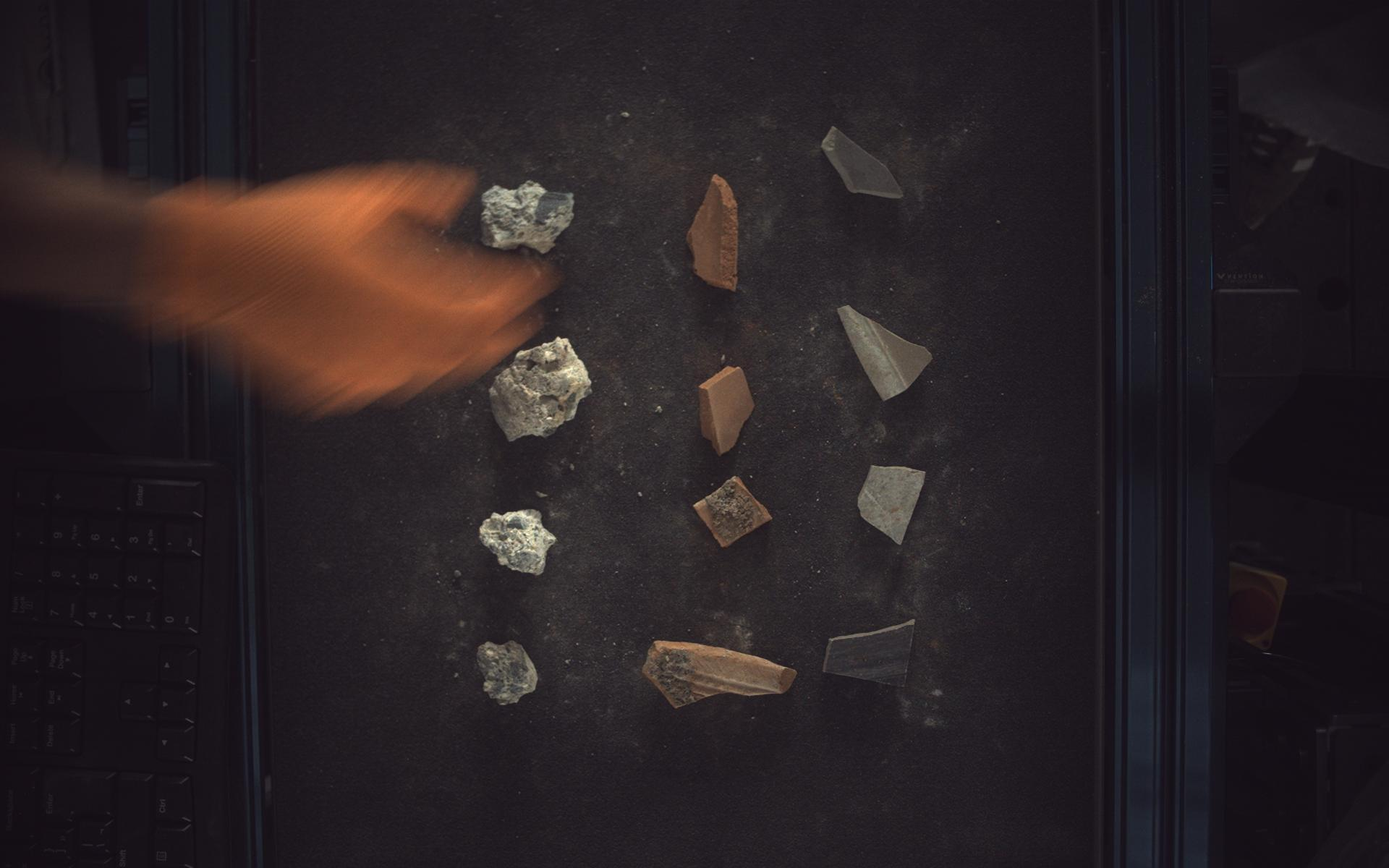brick: (643, 642, 797, 709), (688, 174, 739, 290), (694, 476, 773, 548), (700, 366, 755, 456)
concrete: (490, 338, 592, 441), (481, 179, 574, 252), (480, 510, 557, 575), (477, 642, 537, 706)
tile: (839, 305, 934, 400), (824, 621, 917, 686), (823, 125, 905, 197), (859, 466, 927, 545)
